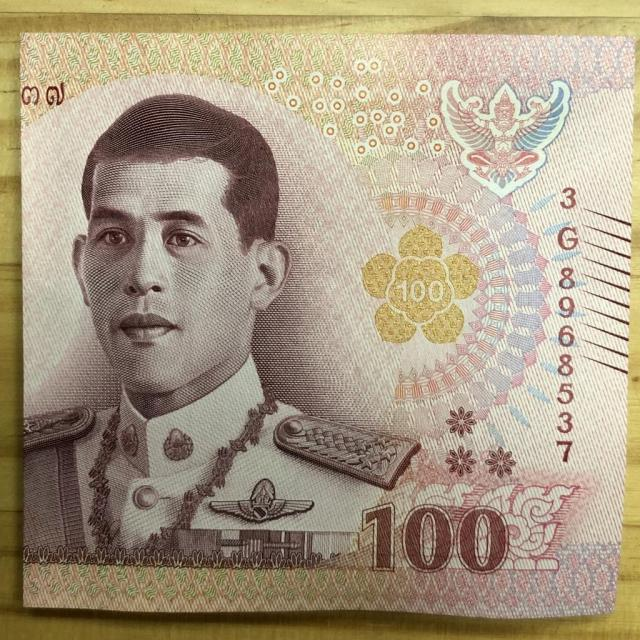THAI100: (19, 25, 634, 618)
